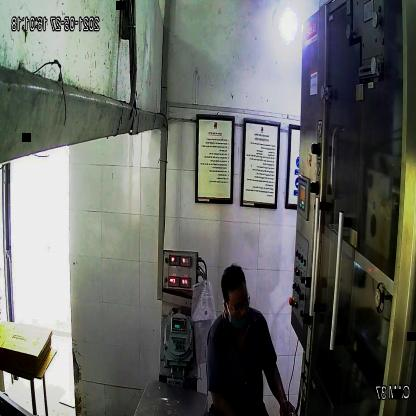goggles: (224, 293, 252, 314)
